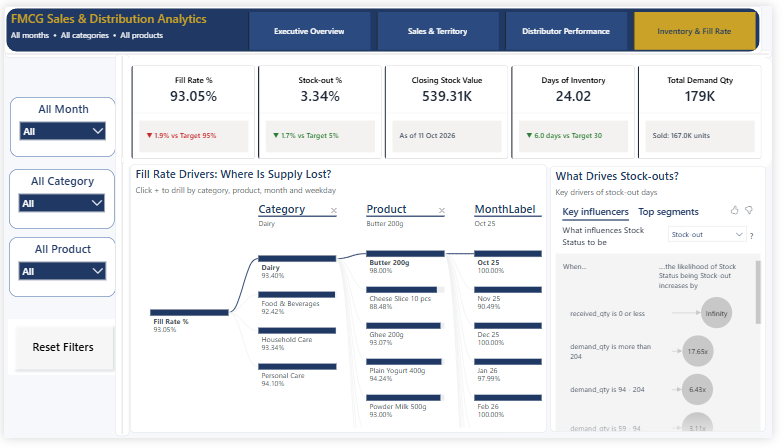

The page's visual inventory and layout, read from the dashboard file:
{"tool":"powerbi","page":{"name":"Inventory & Fill Rate","canvas":[1280,720],"ordinal":3},"visuals":[{"type":"slicer","title":"All Month","fields":{"Values":["Calendar.Month"]},"box":[9.5,152.4,176.2,100],"z":0},{"type":"slicer","title":"All Category","fields":{"Values":["dim_product.categ_id_name"]},"box":[7.9,271.4,176.2,100],"z":1000},{"type":"slicer","title":"All Product","fields":{"Values":["dim_product.name"]},"box":[7.9,385.7,177.8,100],"z":2000},{"type":"actionButton","box":[6,522.4,183.6,92.5],"z":4000},{"type":"shape","box":[2.4,73.1,1277.6,13.4],"z":5000},{"type":"shape","box":[185.1,80.6,23.9,637.3],"z":6000},{"type":"shape","box":[195.2,250.8,1084.1,12.7],"z":7000},{"type":"cardVisual","fields":{"Data":["____Measure_Inventory and freshness.Fill Rate %","____Measure_Inventory and freshness.Stock-out %","____Measure_Inventory and freshness.Closing Stock Value","____Measure_Inventory and freshness.Days of Inventory","____Measure_Inventory and freshness.Demand Qty"]},"box":[198.4,85.7,1081,184.1],"z":8000},{"type":"decompositionTreeVisual","title":"Fill Rate Drivers: Where Is Supply Lost?","fields":{"Analyze":["____Measure_Inventory and freshness.Fill Rate %"],"ExplainBy":["dim_product.categ_id_name","dim_product.name","Calendar.MonthLabel","Calendar.Weekday"]},"box":[210,263.3,695,448.3],"z":9000},{"type":"keyDriversVisual","title":"What Drives Stock-outs?","fields":{"ExplainBy":["dim_product.categ_id_name","dim_product.name","Calendar.Weekday","Calendar.MonthLabel","fact_stock_daily.demand_qty","fact_stock_daily.received_qty"],"Target":["fact_stock_daily.Stock Status"]},"box":[910,266.7,360,443.3],"z":11000},{"type":"shape","box":[0,0,1263.3,80],"z":13000},{"type":"pageNavigator","box":[406.7,10,848.3,63.3],"z":14000},{"type":"shape","box":[11.7,6.7,381.7,58.3],"z":15000}]}

Visuals, with their boxes on the page's 1280x720 design canvas (x1, y1, x2, y2). These are canvas units, not pixel positions in the 784x448 screenshot, which may show the page scaled, cropped or inside an application window:
"All Month" slicer: bbox=(10, 152, 186, 252)
"All Category" slicer: bbox=(8, 271, 184, 371)
"All Product" slicer: bbox=(8, 386, 186, 486)
actionButton: bbox=(6, 522, 190, 615)
shape: bbox=(2, 73, 1280, 86)
shape: bbox=(185, 81, 209, 718)
shape: bbox=(195, 251, 1279, 264)
cardVisual - ____Measure_Inventory and freshness.Fill Rate % x ____Measure_Inventory and freshness.Stock-out %: bbox=(198, 86, 1279, 270)
"Fill Rate Drivers: Where Is Supply Lost?" decompositionTreeVisual: bbox=(210, 263, 905, 712)
"What Drives Stock-outs?" keyDriversVisual: bbox=(910, 267, 1270, 710)
shape: bbox=(0, 0, 1263, 80)
pageNavigator: bbox=(407, 10, 1255, 73)
shape: bbox=(12, 7, 393, 65)
